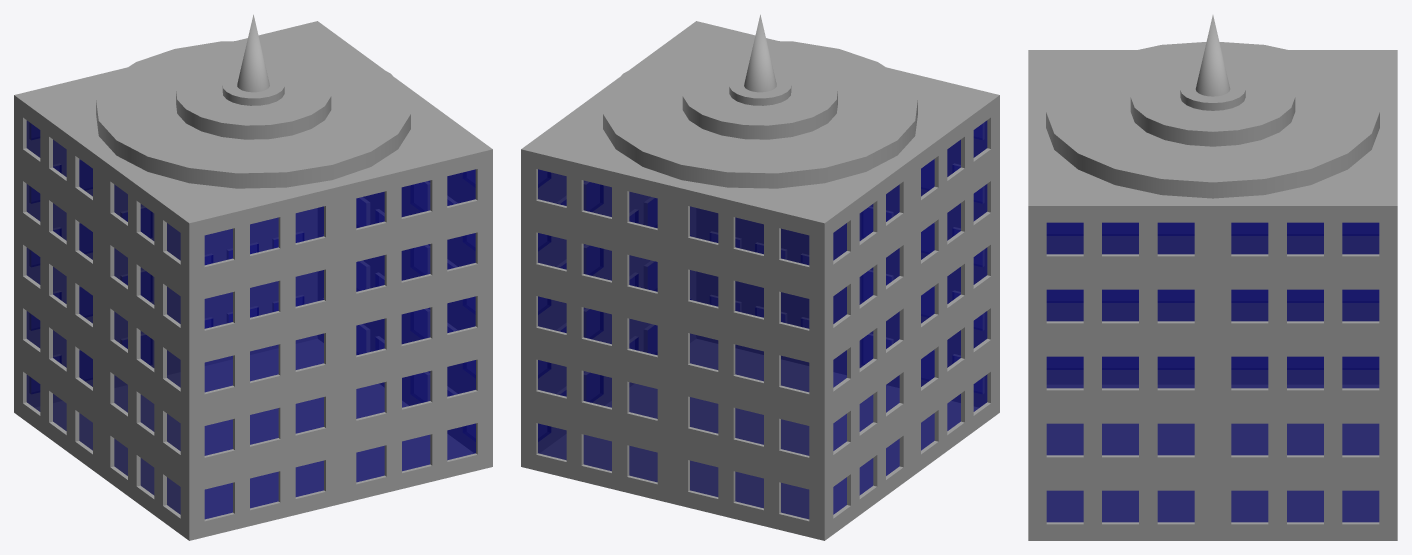
Rendered from tower3.fbx.
The picture shows the model from 3 angles, left to right: view 1: azimuth 30°, elevation 25°; view 2: azimuth 150°, elevation 25°; view 3: azimuth 270°, elevation 25°; orthographic projection. The views are drawn at different scales.
Visible parts, largest first — view 1: pCube177; view 2: pCube177; view 3: pCube177.
Boxes of the visible parts, x1,y1,x2,y2 form: pCube177: [14, 14, 492, 540]; pCube177: [521, 14, 999, 540]; pCube177: [1028, 15, 1397, 540].
Bounding box in the file's own units: 10 × 13.4 × 10.
